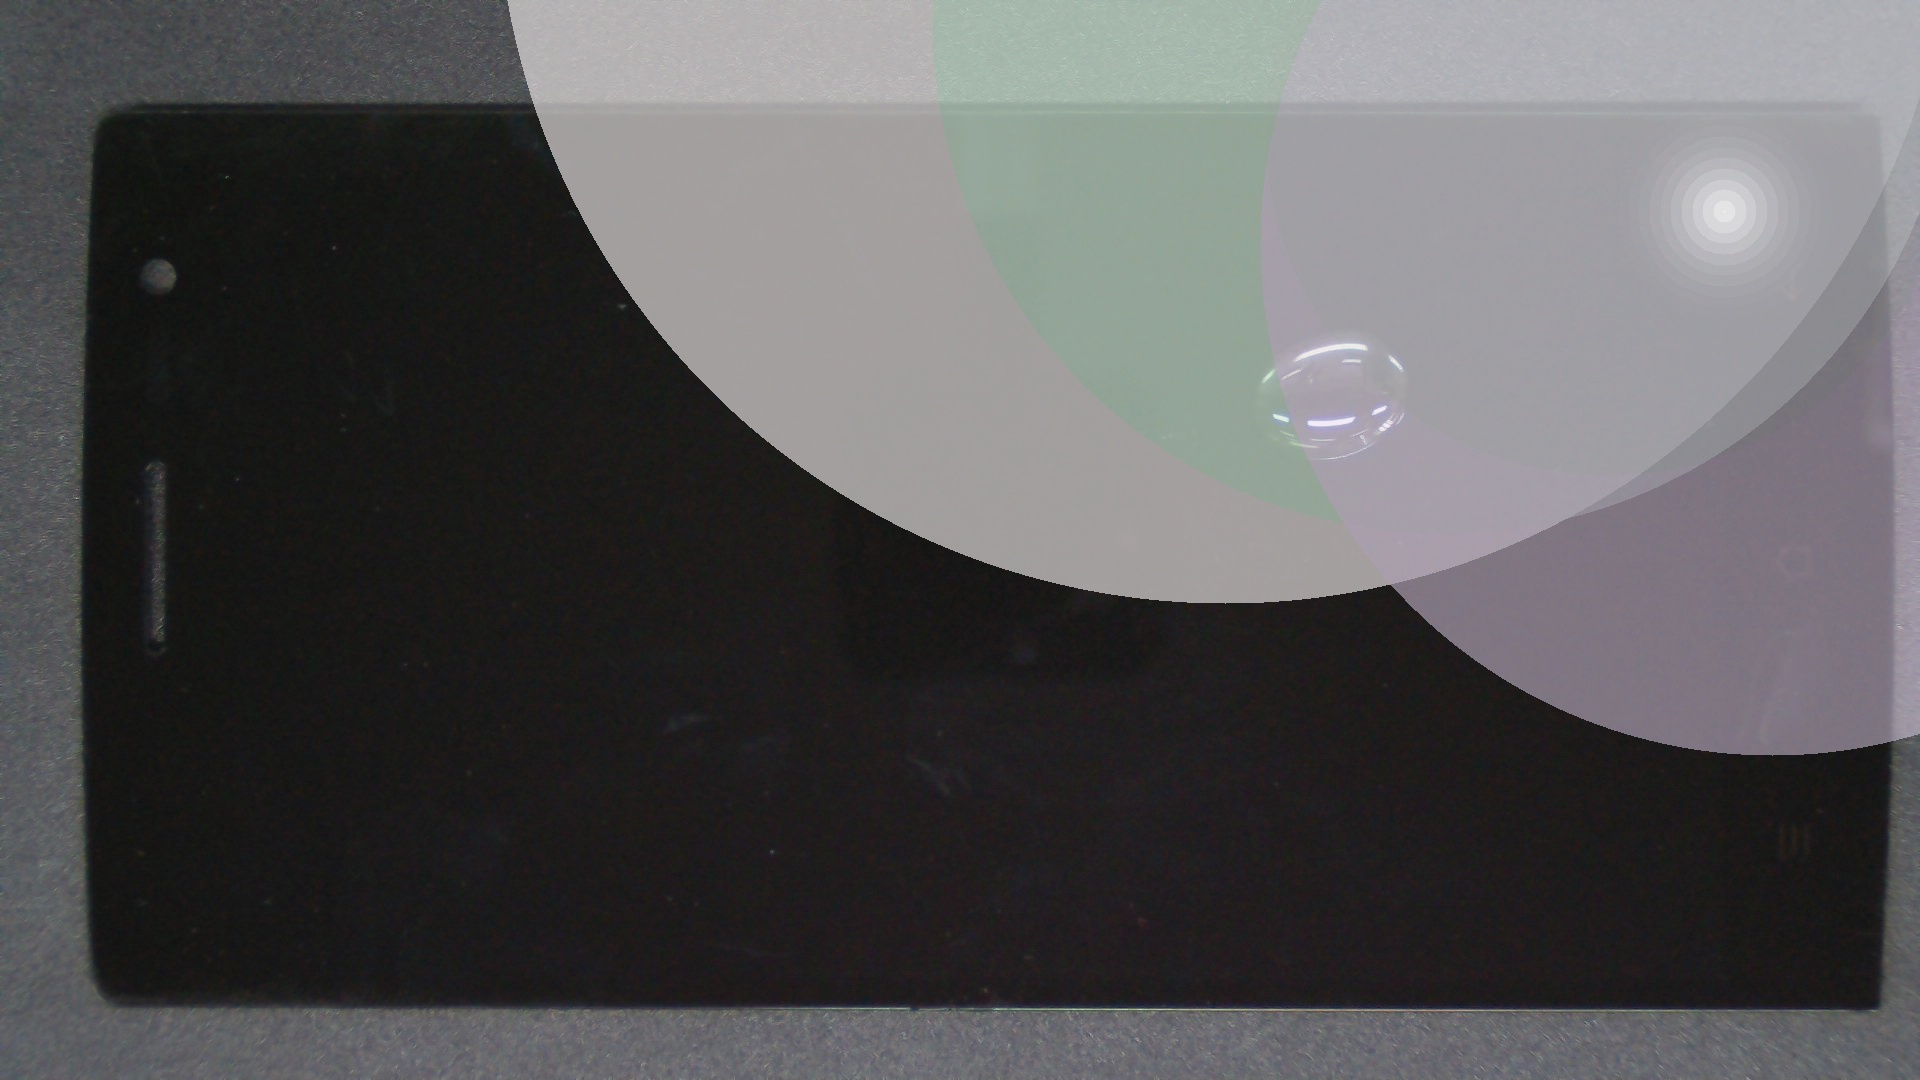oil: (670, 165, 1920, 496)
